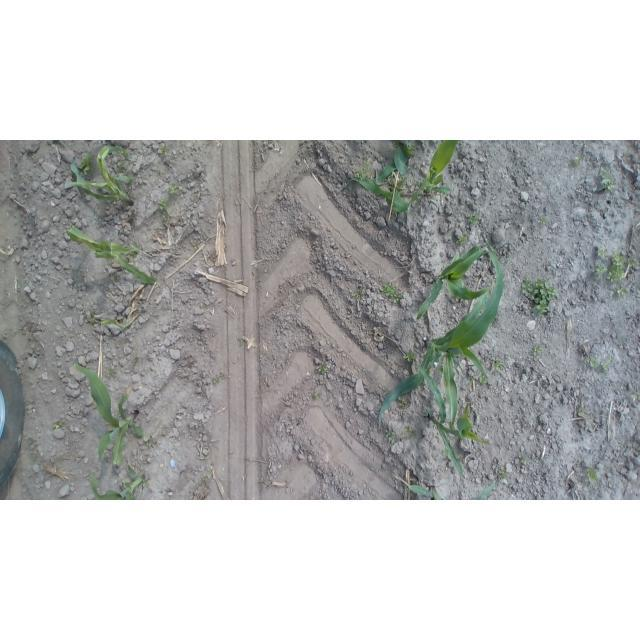Maize: (379, 242, 506, 431), (409, 362, 488, 485), (351, 141, 465, 216), (74, 361, 149, 471), (414, 243, 495, 326), (65, 223, 159, 287), (64, 143, 136, 207), (84, 464, 152, 501), (404, 475, 504, 500)
Weeds: (519, 273, 559, 315), (606, 251, 628, 283), (353, 160, 378, 185), (381, 284, 408, 305), (78, 154, 95, 175), (585, 466, 602, 482), (159, 200, 170, 223), (469, 211, 482, 230), (314, 362, 330, 377), (168, 183, 183, 198), (396, 393, 410, 408), (404, 143, 420, 156), (605, 181, 617, 198), (143, 434, 157, 448), (496, 468, 509, 483), (614, 286, 630, 298), (157, 143, 173, 155), (491, 358, 504, 372), (455, 232, 469, 245), (626, 257, 640, 270), (572, 403, 584, 417), (402, 350, 416, 362), (50, 419, 66, 429), (600, 171, 616, 181), (587, 355, 599, 368), (531, 345, 543, 358), (350, 287, 362, 300), (570, 155, 585, 165), (630, 388, 639, 404), (105, 366, 117, 378), (384, 428, 394, 442), (597, 247, 608, 259), (538, 213, 551, 223), (596, 264, 607, 275), (311, 391, 322, 402), (479, 374, 489, 385), (201, 476, 212, 486), (519, 455, 529, 465), (408, 415, 418, 425), (468, 372, 477, 382), (606, 353, 613, 364), (120, 159, 127, 170), (601, 364, 609, 373), (400, 429, 408, 436)
